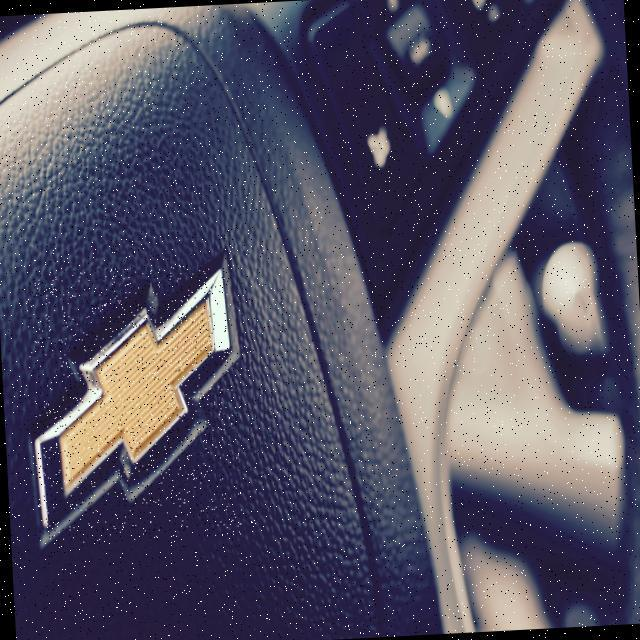Chevrolet: (25, 263, 243, 545)
